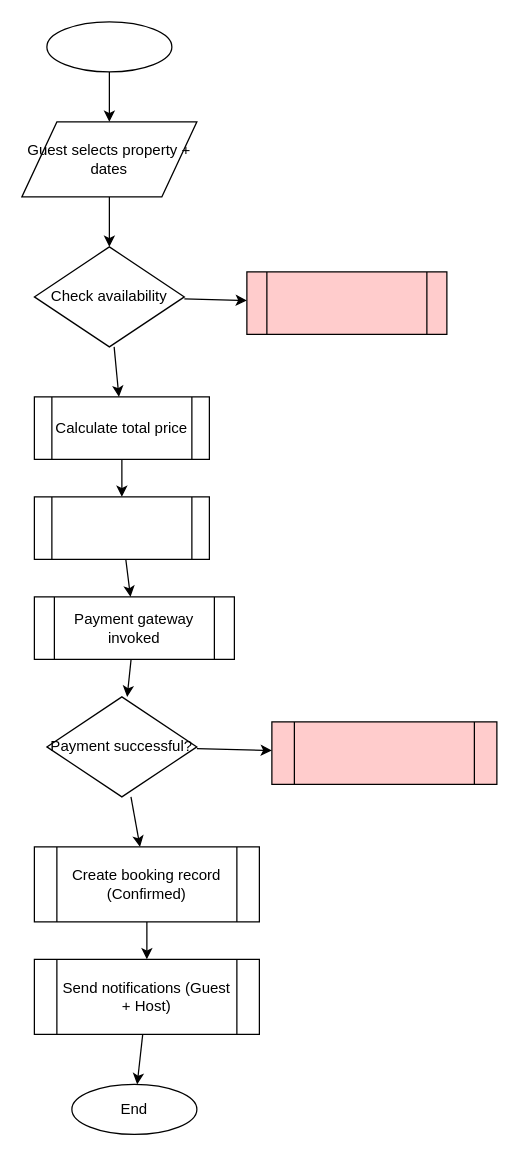
Image size: 519x1156. Some labels were removed from this diagram. Each missing label, with the centre of its shape:
Guest confirms booking: (x=121, y=527)
Not available → return error: (x=346, y=302)
Payment failed → return error: (x=384, y=752)
Start: (x=109, y=46)
